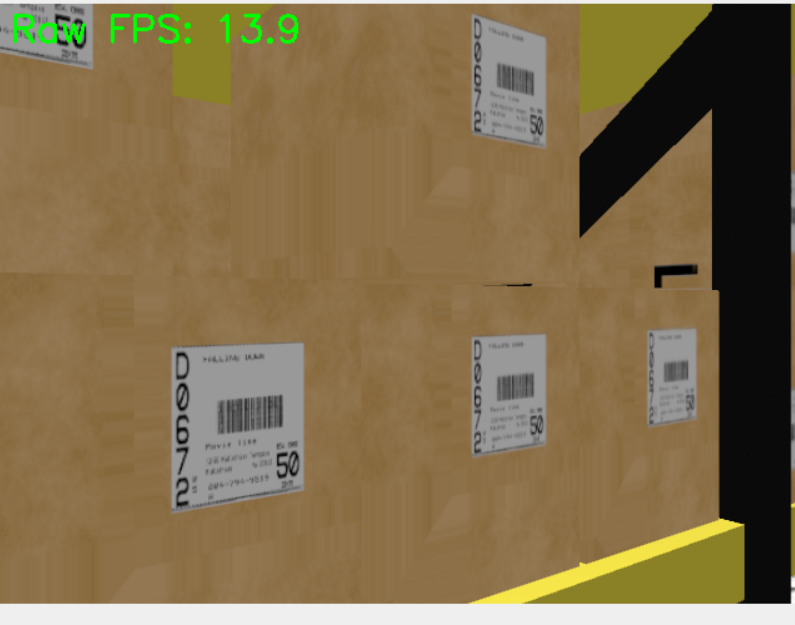barcode: (169, 340, 308, 513), (471, 14, 546, 146), (471, 335, 548, 458), (647, 328, 700, 427)
